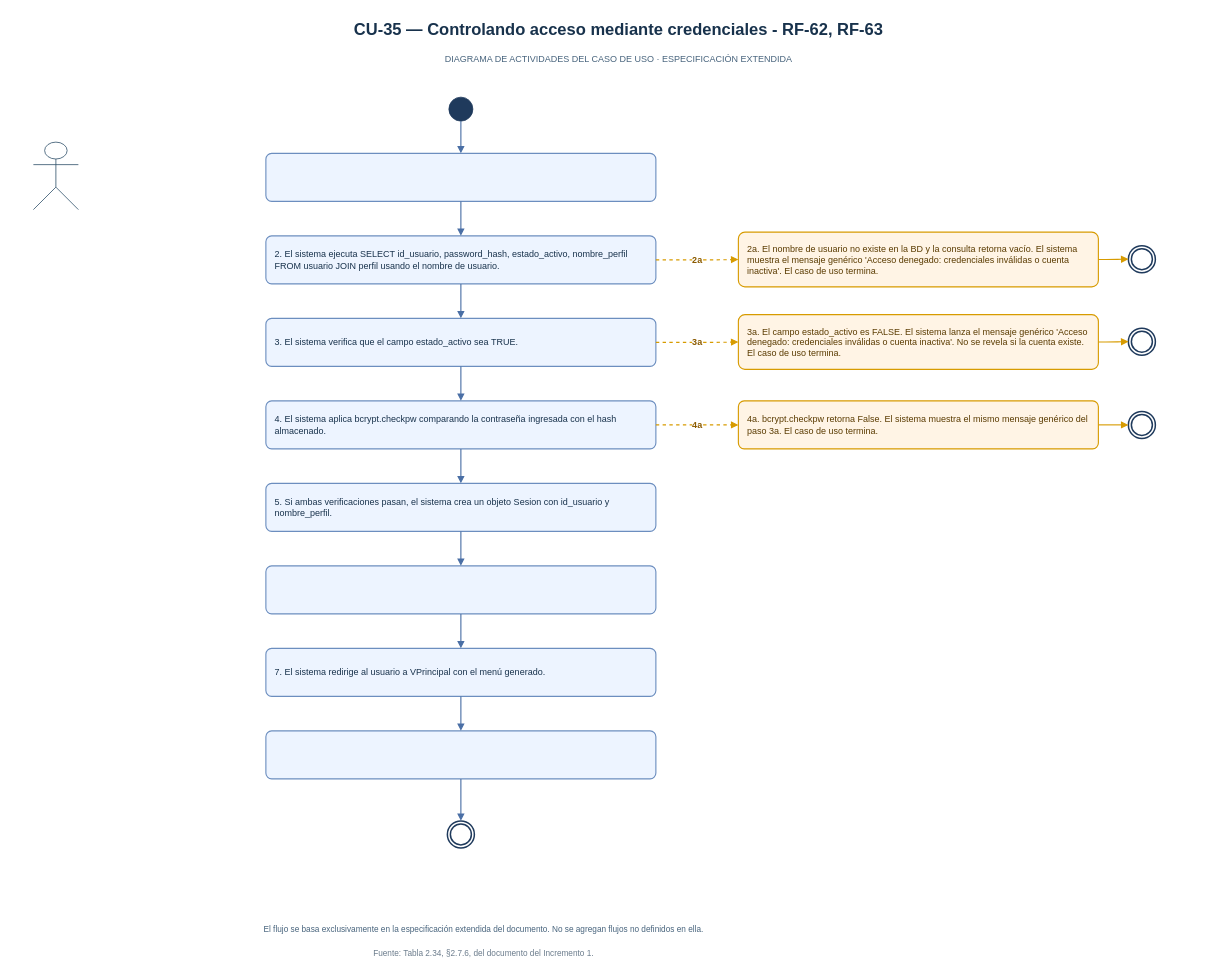
This 1223x975 diagram has some shape labels left out. Here are the shapes that lost their labels. From the top down, the centre of each, then its label:
point (55, 175): Usuario del sistema
point (460, 177): 1. El sistema recibe nombre de usuario y contraseña en texto plano.
point (460, 589): 6. El sistema construye el menú dinámico de acuerdo al perfil asignado.
point (460, 754): 8. El campo contraseña se limpia de memoria.
